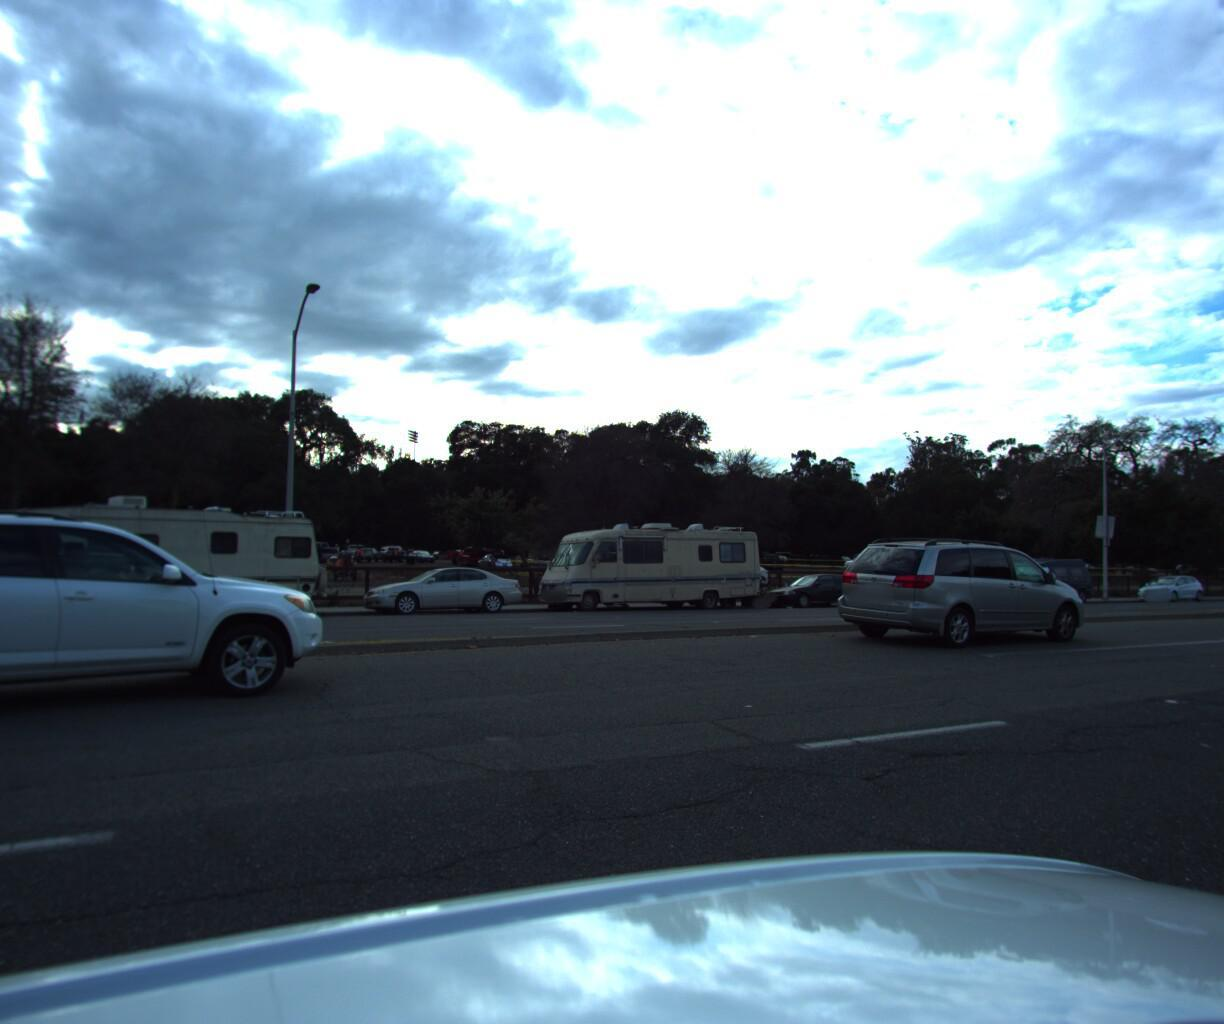car: (0, 497, 378, 751), (830, 527, 1098, 647), (353, 561, 528, 617), (988, 551, 1095, 602), (753, 567, 872, 604), (1127, 568, 1203, 599)
other_vehicle: (0, 484, 340, 628), (529, 509, 767, 617)
